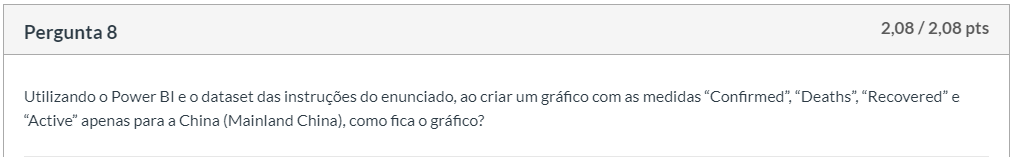

What the dashboard file says about the page in this screenshot:
{"tool":"powerbi","page":{"name":"Q8","canvas":[1280,720],"ordinal":0},"visuals":[{"type":"lineChart","title":"China - Mainland Confirmed, Deaths, Recovered and Active by ObservationDate","fields":{"Y":["Sum(covid_19_data (2).Confirmed)","Sum(covid_19_data (2).Deaths)","Sum(covid_19_data (2).Recovered)","Sum(covid_19_data (2).Active)"],"Category":["covid_19_data (2).ObservationDate"]},"box":[334.4,304.6,669.8,415.7],"z":0},{"type":"slicer","fields":{"Values":["covid_19_data (2).ObservationDate"]},"box":[334.4,200.6,669.8,103.9],"z":1000},{"type":"image","box":[0,0,1280,209.4],"z":2000}]}

Visuals, with their boxes on the page's 1280x720 design canvas (x1, y1, x2, y2). These are canvas units, not pixel positions in the 1012x157 screenshot, which may show the page scaled, cropped or inside an application window:
"China - Mainland Confirmed, Deaths, Recovered and Active by ObservationDate" lineChart: <bbox>334, 305, 1004, 720</bbox>
slicer - covid_19_data (2).ObservationDate: <bbox>334, 201, 1004, 304</bbox>
image: <bbox>0, 0, 1280, 209</bbox>
